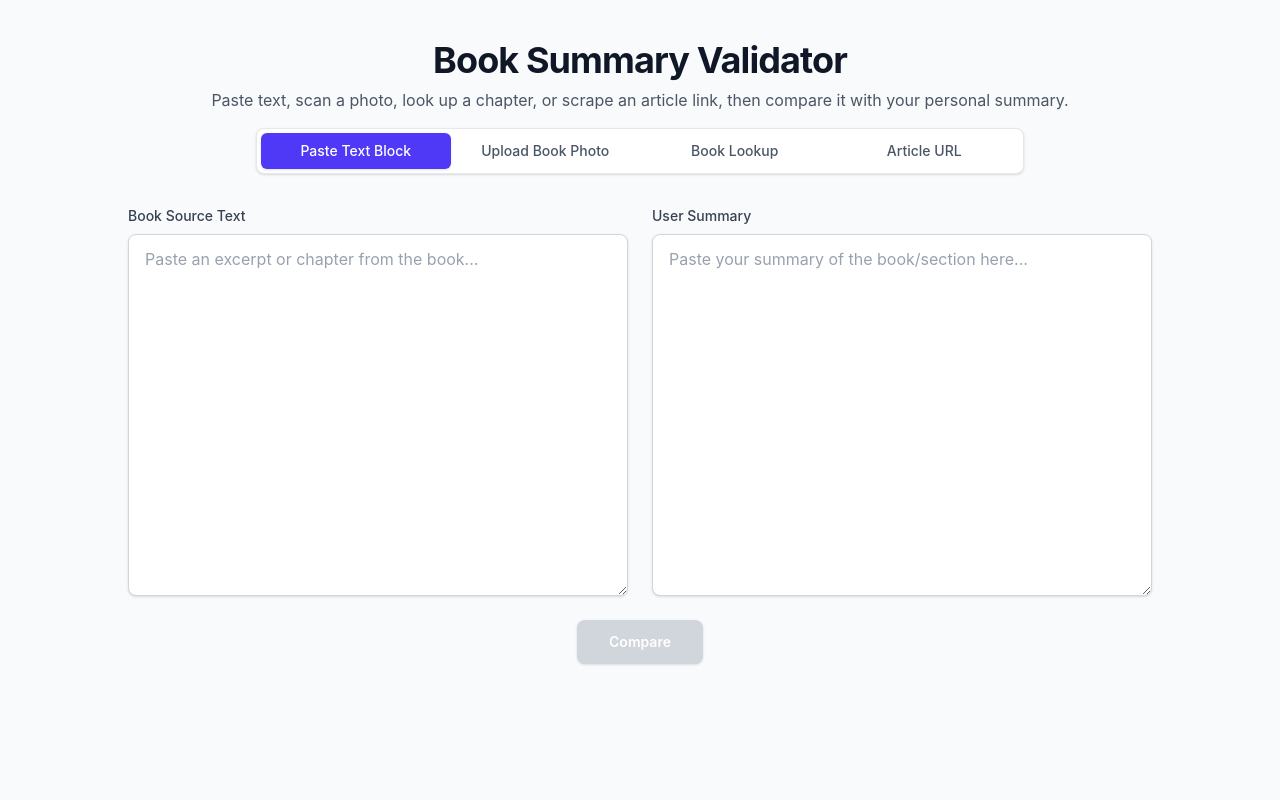
App › runs compare in text mode and shows results
Type "Book excerpt" into the text box labelled "Book Source Text" at {"x": 378, "y": 415}, box [128,234,628,596]
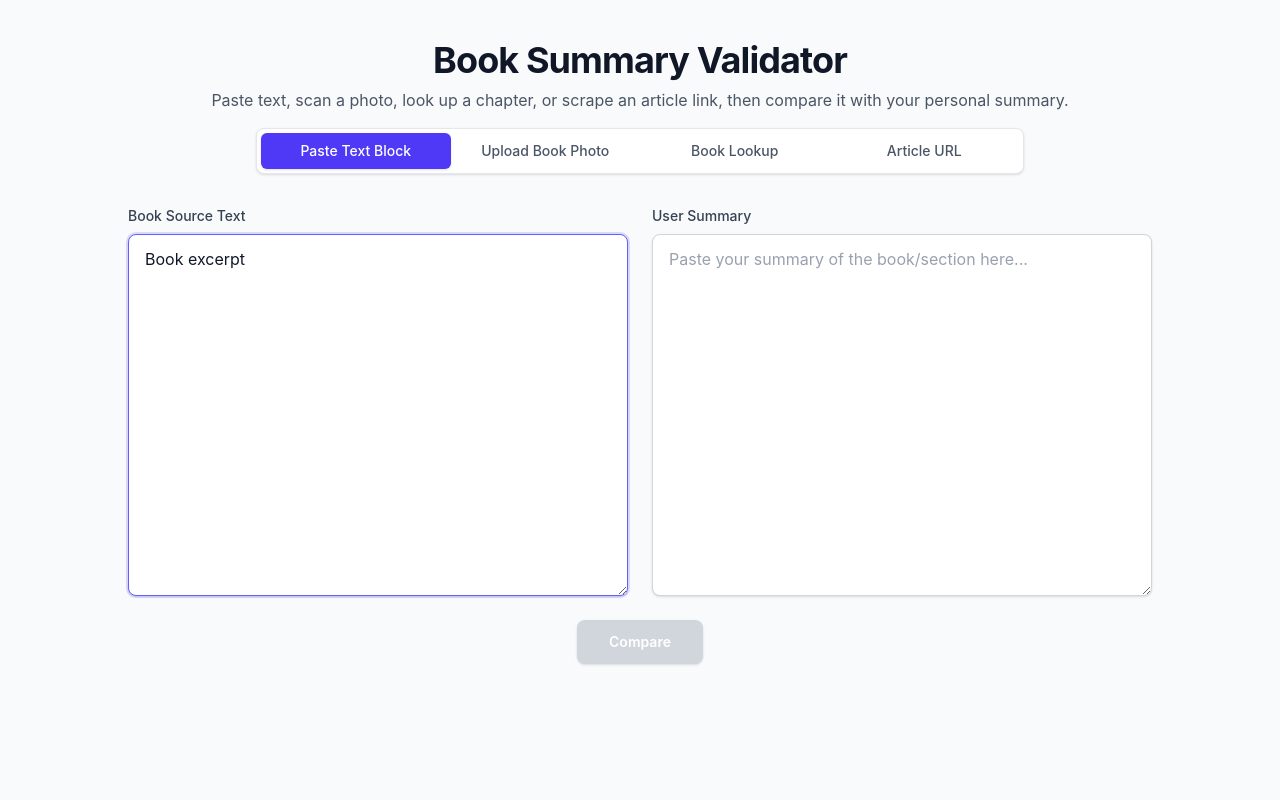
Type "My summary" into the text box labelled "User Summary" at {"x": 902, "y": 415}, box [652,234,1152,596]
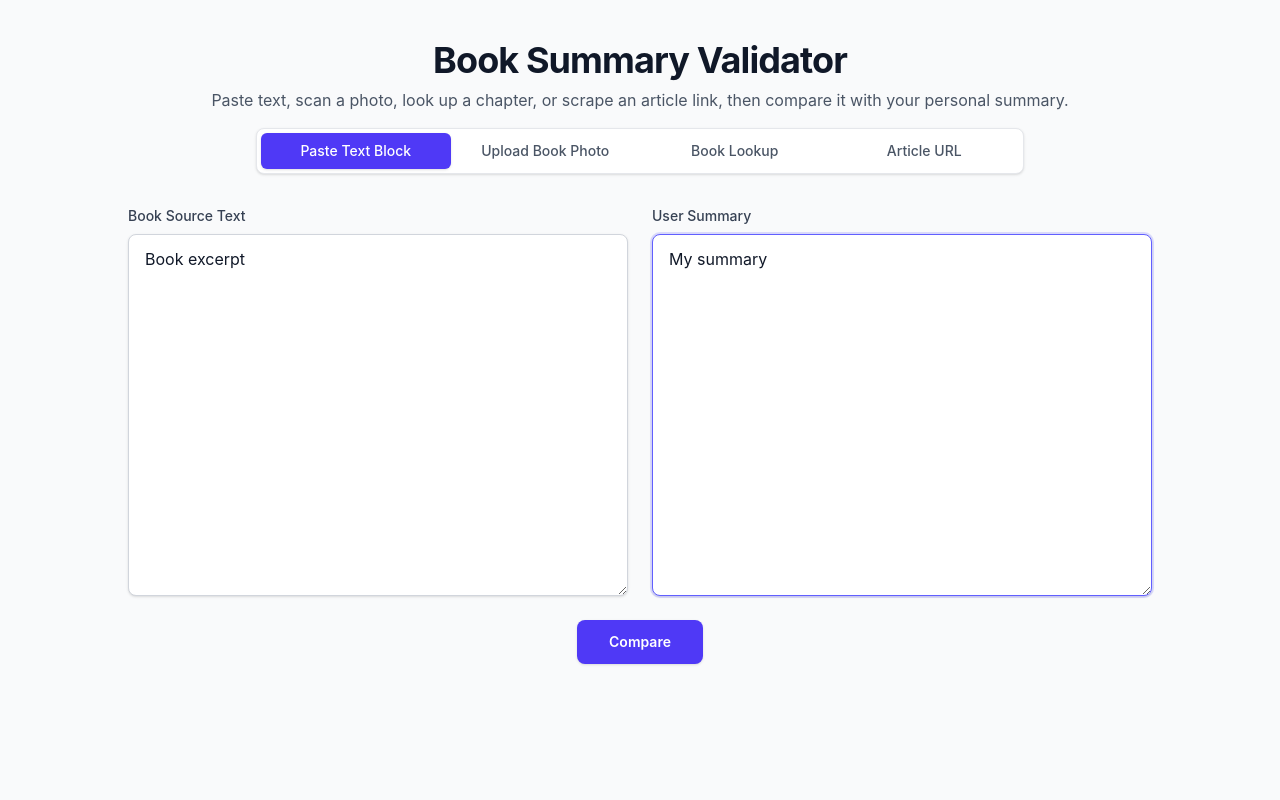
Click the button "Compare" at {"x": 640, "y": 642}, box [577,620,703,664]
(page scrolled)
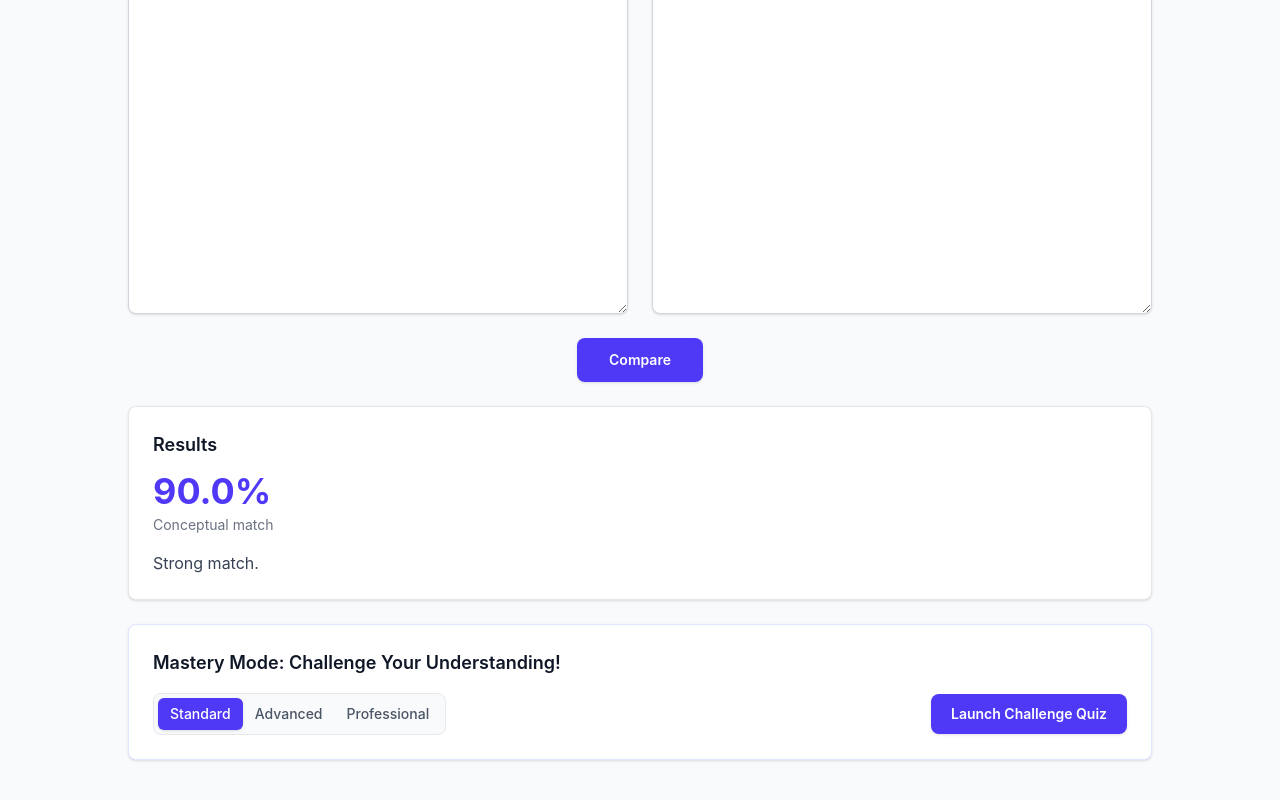
Expected: the text "90.0%" is shown, [153,469,271,513]
Expected: the text "Strong match." is shown, [153,553,259,573]
